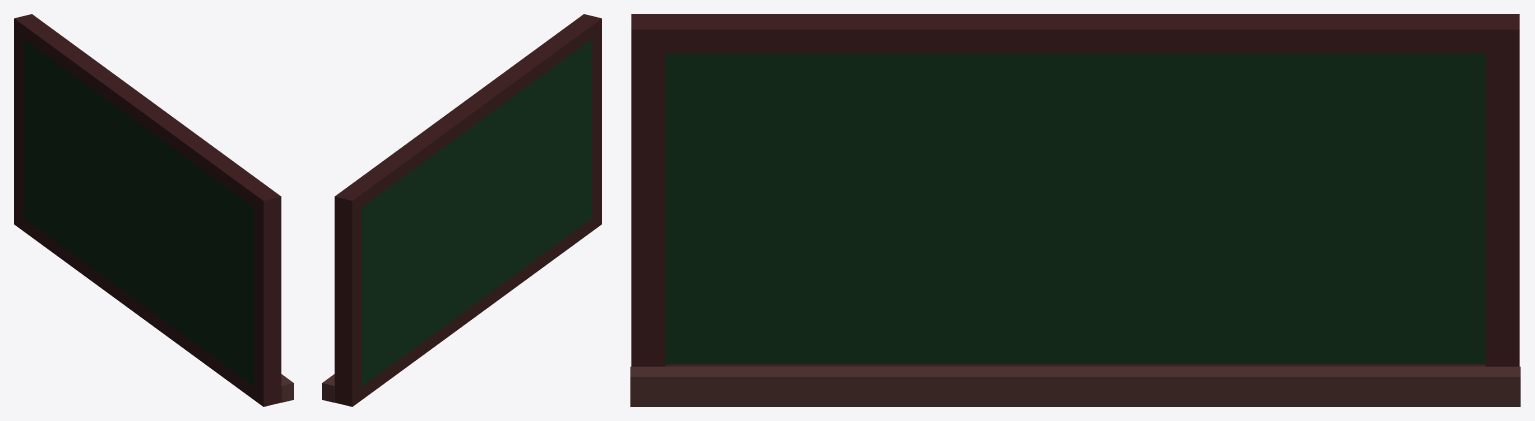
File: blackboard.fbx
The picture shows the model from 3 angles, left to right: view 1: azimuth 30°, elevation 25°; view 2: azimuth 150°, elevation 25°; view 3: azimuth 270°, elevation 25°; orthographic projection. The views are drawn at different scales.
Visible parts, largest first — view 1: Cube.054; view 2: Cube.054; view 3: Cube.054.
Part boxes in pixels (<box>): Cube.054: <box>14,14,293,406</box>; Cube.054: <box>322,14,601,406</box>; Cube.054: <box>630,14,1520,406</box>.
Size of the model in its own units: 334 by 2183 by 4803.
